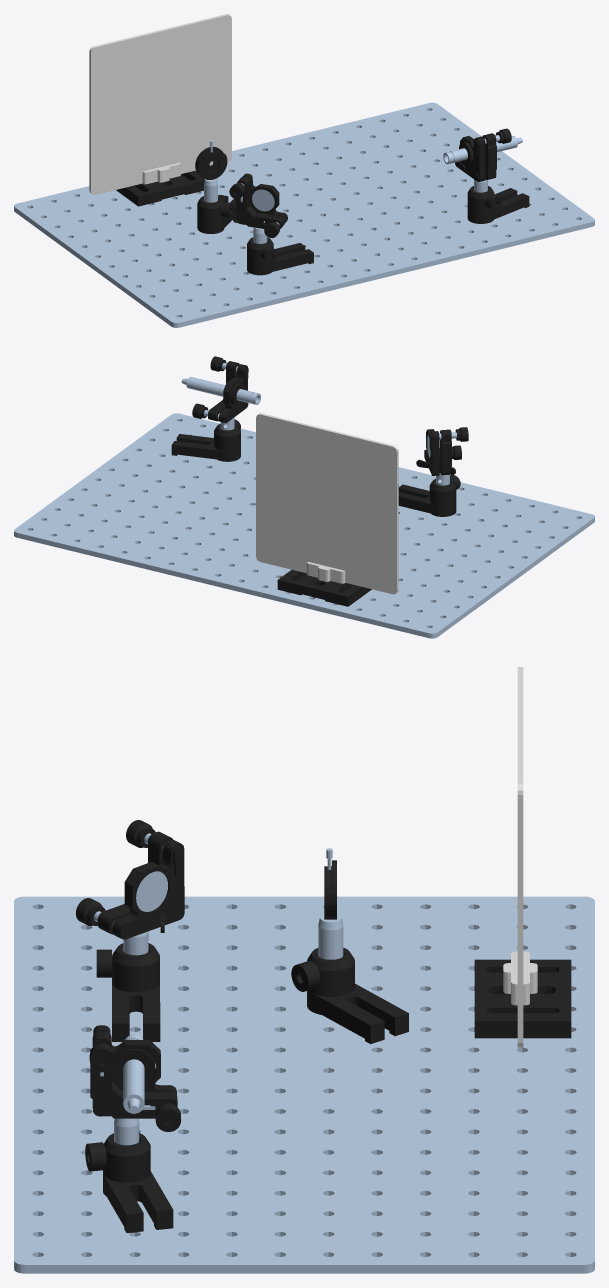
3 views of the same model, one above another, from view 1: azimuth 30°, elevation 25°; view 2: azimuth 150°, elevation 25°; view 3: azimuth 270°, elevation 25° (orthographic). The views are drawn at different scales.
Parts seen in each view (by area): view 1: Base, Schirm, Mirror1, Laser, ID15; view 2: Base, Schirm, Laser, Mirror1; view 3: Base, Laser, Mirror1, Schirm, ID15.
Part boxes in pixels (x1,y1,x2,y2): Base: (14, 102, 594, 327); Schirm: (89, 14, 231, 206); Mirror1: (229, 173, 313, 275); Laser: (443, 128, 529, 223); ID15: (195, 140, 236, 233); Base: (14, 413, 594, 638); Schirm: (256, 413, 398, 606); Laser: (171, 356, 260, 461); Mirror1: (398, 427, 468, 516); Base: (14, 896, 594, 1273); Laser: (85, 1025, 181, 1232); Mirror1: (76, 820, 184, 1041); Schirm: (474, 667, 571, 1047); ID15: (291, 848, 408, 1044).
Bounding box in the file's own units: 4.5 × 1.66 × 3.
